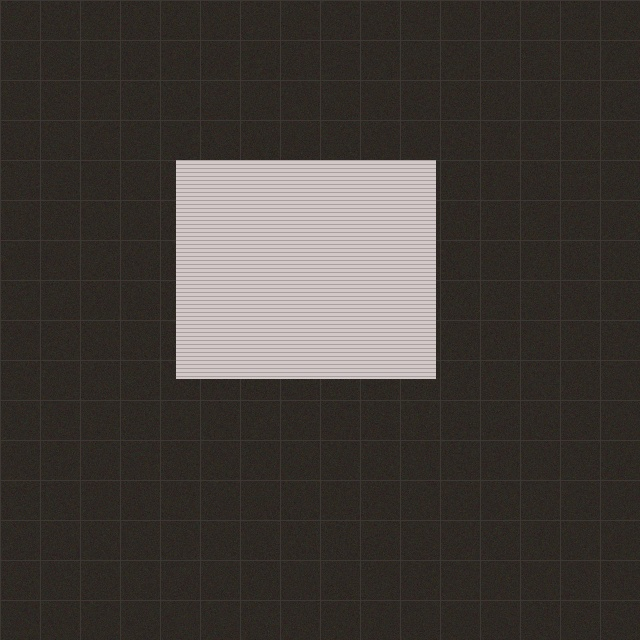normal: (176, 160, 435, 378)
